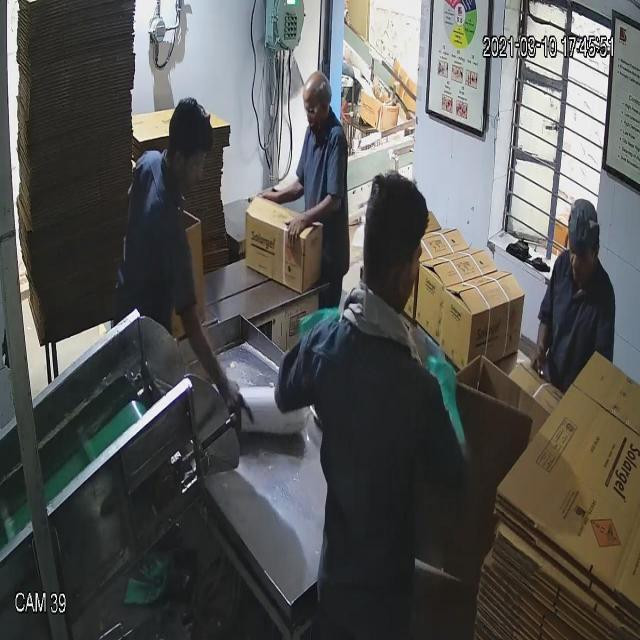No_Gloves: (20, 50, 540, 362)
